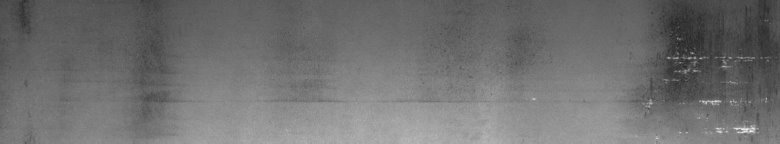hc: (618, 4, 776, 136)
